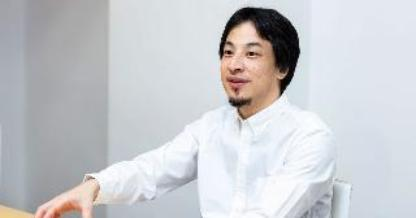person: (150, 1, 341, 218)
